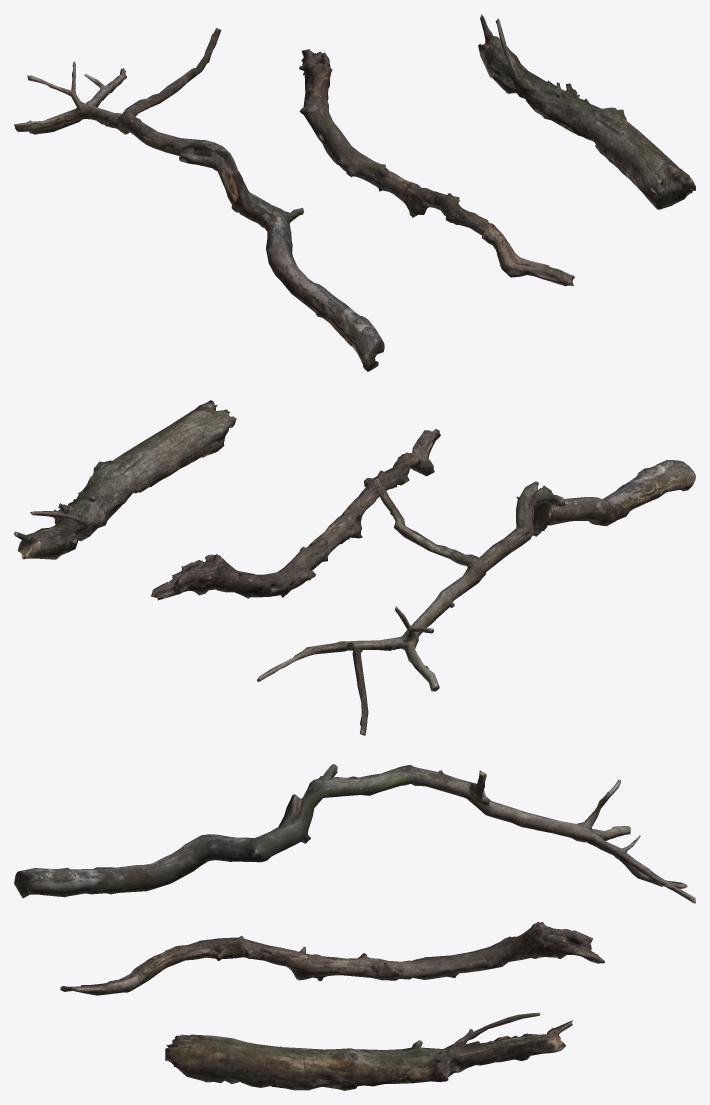
Rendered from dry_branches_medium_01.glb.
3 renders of one model, top to bottom at view 1: azimuth 30°, elevation 25°; view 2: azimuth 150°, elevation 25°; view 3: azimuth 270°, elevation 25°, orthographic. The views are drawn at different scales.
Visible parts, largest first — view 1: dry_branches_medium_01_c; view 2: dry_branches_medium_01_c; view 3: dry_branches_medium_01_c.
Boxes of the visible parts, box(x1,y1,x2,y2) form: dry_branches_medium_01_c: box(14, 14, 695, 371); dry_branches_medium_01_c: box(14, 400, 695, 735); dry_branches_medium_01_c: box(14, 764, 695, 1090).
Size of the model in its own units: 1.06 by 0.341 by 1.3.
1 material, 1 textured.
